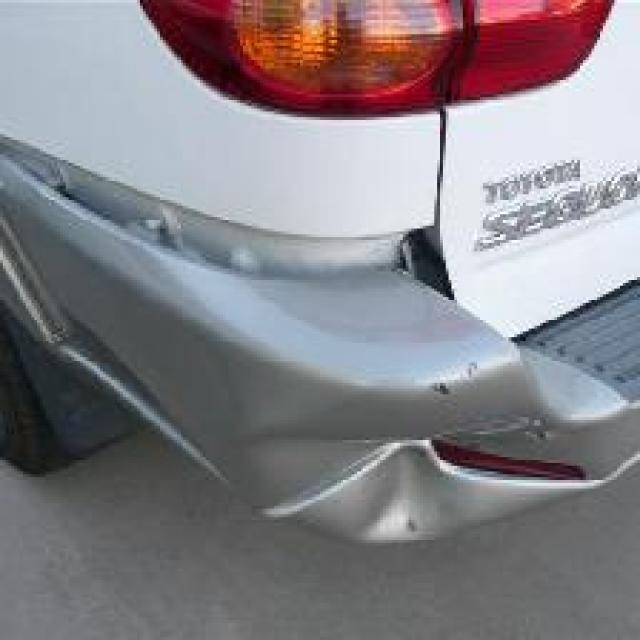damaged: (266, 361, 560, 548)
